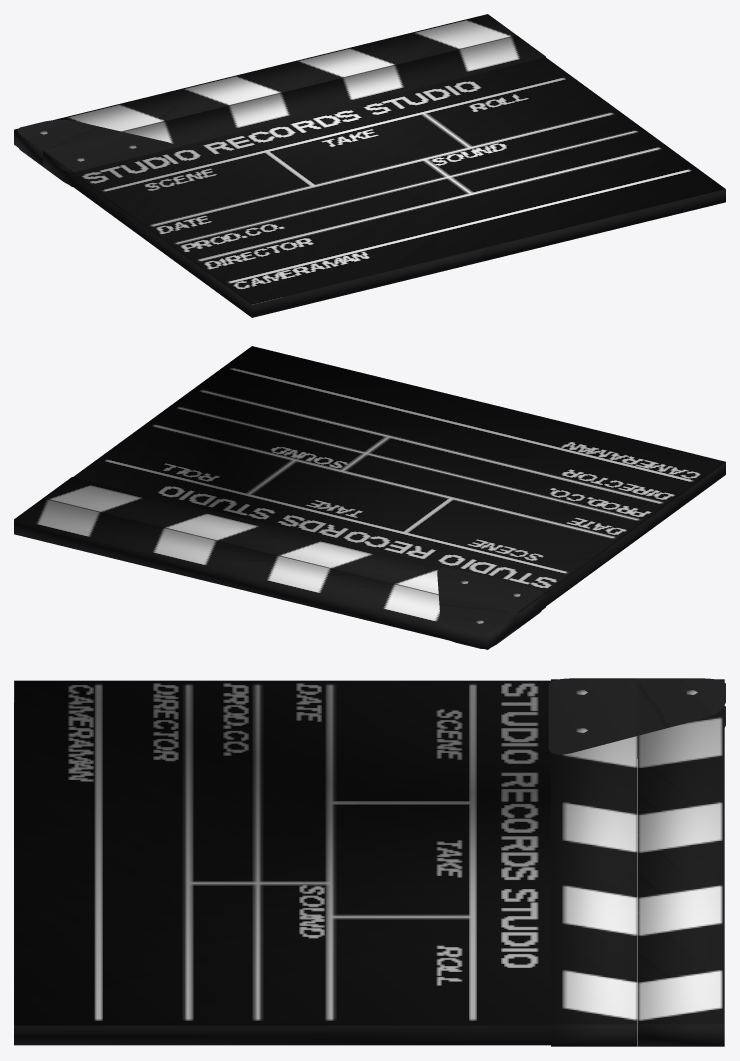
File: clapperboard.obj
3 renders of one model, top to bottom at view 1: azimuth 30°, elevation 25°; view 2: azimuth 150°, elevation 25°; view 3: azimuth 270°, elevation 25°, orthographic. The views are drawn at different scales.
Parts seen in each view (by area): view 1: clapperboard; view 2: clapperboard; view 3: clapperboard.
Boxes of the visible parts, left/top/right/bottom form: clapperboard: left=14, top=14, right=725, bottom=317; clapperboard: left=14, top=346, right=725, bottom=649; clapperboard: left=14, top=678, right=725, bottom=1046.
Bounding box in the file's own units: 2.62 × 0.0832 × 2.28.
Materials: 1 (1 with a texture image).
